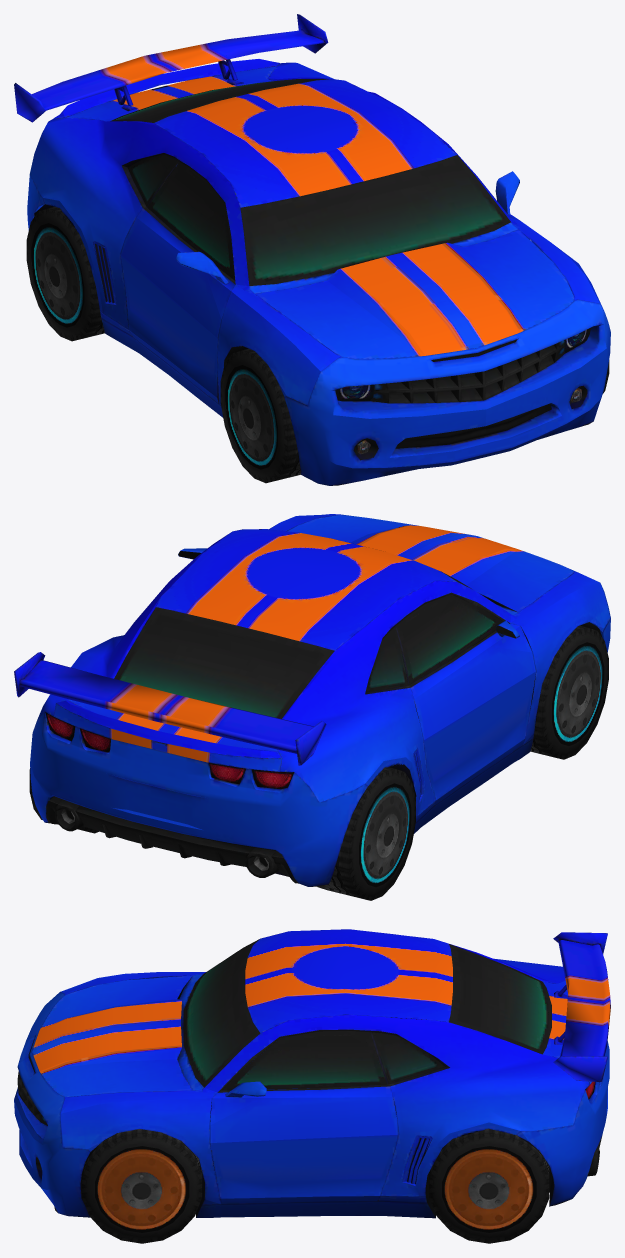
File: Car 6.glb
The picture shows the model from 3 angles, top to bottom: view 1: azimuth 30°, elevation 25°; view 2: azimuth 150°, elevation 25°; view 3: azimuth 270°, elevation 25°; orthographic projection. The views are drawn at different scales.
Parts seen in each view (by area): view 1: carBody_low_017, carBody_low_012, tireFrontR_low_016, tireBackR_low_016; view 2: carBody_low_017, carBody_low_012, tireBackR_low_016, tireFrontR_low_016; view 3: carBody_low_017, tireFrontL_low_017, tireBackL_low_016, carBody_low_012.
Boxes of the visible parts, box(x1,y1,x2,y2) form: carBody_low_017: box(27, 59, 610, 485); carBody_low_012: box(14, 14, 328, 122); tireFrontR_low_016: box(220, 348, 300, 483); tireBackR_low_016: box(26, 207, 104, 341); carBody_low_017: box(30, 514, 610, 886); carBody_low_012: box(14, 652, 326, 765); tireBackR_low_016: box(317, 767, 415, 900); tireFrontR_low_016: box(530, 625, 608, 759); carBody_low_017: box(14, 929, 609, 1218); tireFrontL_low_017: box(82, 1129, 202, 1243); tireBackL_low_016: box(429, 1128, 549, 1243); carBody_low_012: box(553, 932, 610, 1081).
Size of the model in its own units: 0.6548 by 0.4241 by 1.11.
4 materials, 4 textured.
